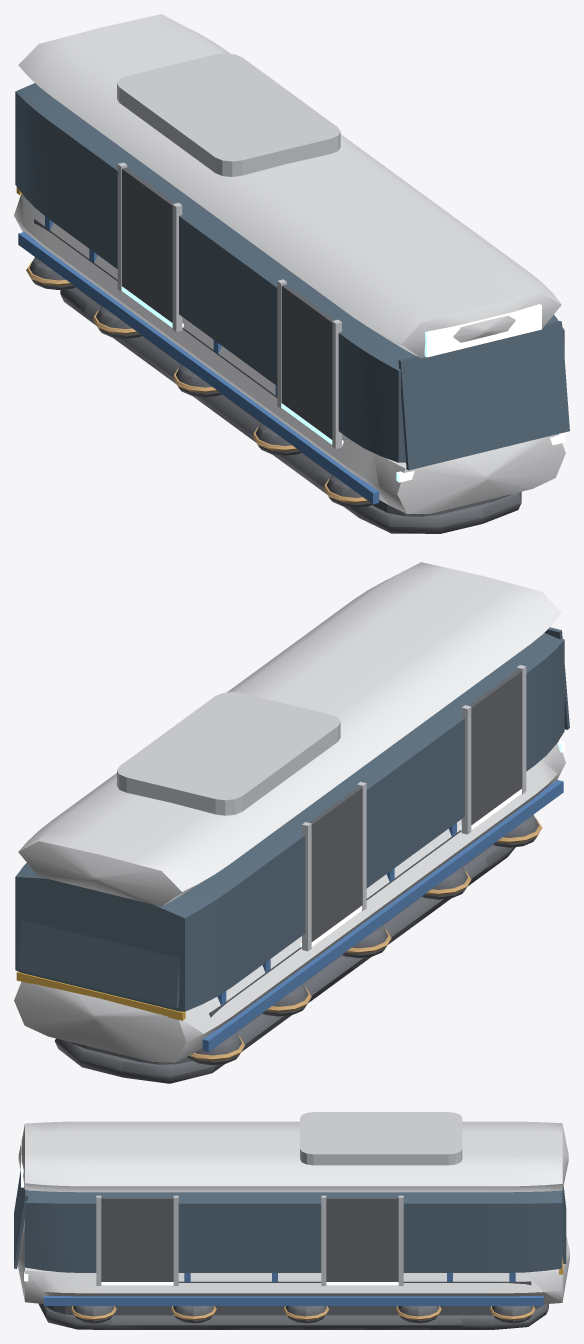
The model's file is hover-transit-and-antigrav-fleet-transit-shuttle-bus-05fe4d32__17079.glb.
3 views of the same model, one above another, from view 1: azimuth 30°, elevation 25°; view 2: azimuth 150°, elevation 25°; view 3: azimuth 270°, elevation 25° (orthographic). The views are drawn at different scales.
Parts seen in each view (by area): view 1: transit-shuttle-bus; view 2: transit-shuttle-bus; view 3: transit-shuttle-bus.
Boxes of the visible parts, x1=… form: transit-shuttle-bus: x1=14, y1=14, x2=569, y2=533; transit-shuttle-bus: x1=14, y1=562, x2=569, y2=1083; transit-shuttle-bus: x1=14, y1=1112, x2=569, y2=1329.
Bounding box in the file's own units: 2.74 × 3.06 × 8.9.
